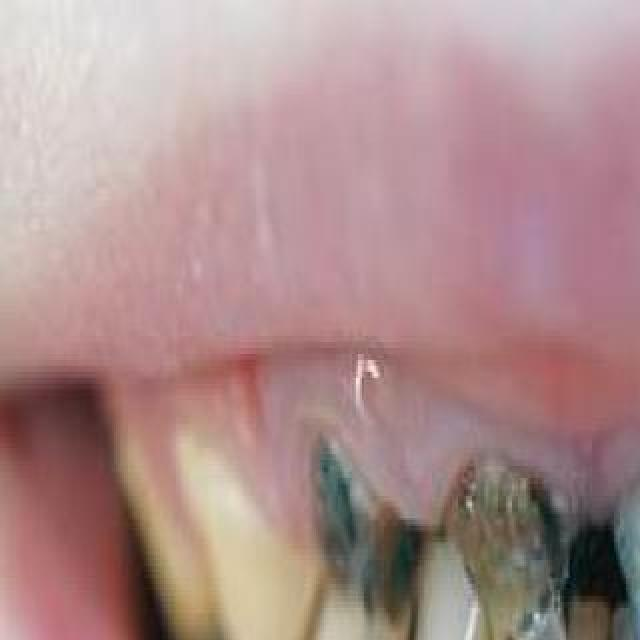cavities: (298, 418, 426, 640), (438, 454, 578, 640), (614, 442, 640, 640)
plaque: (156, 400, 246, 544)
stains: (348, 616, 430, 640)
